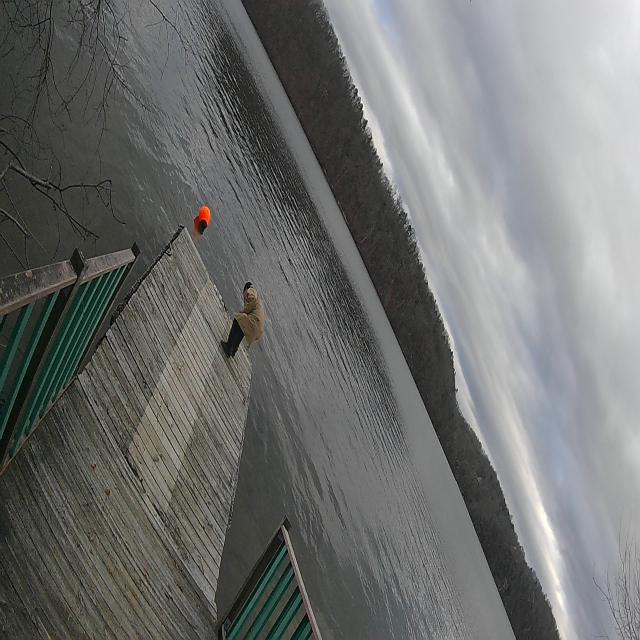Buoy: (196, 196, 212, 242)
